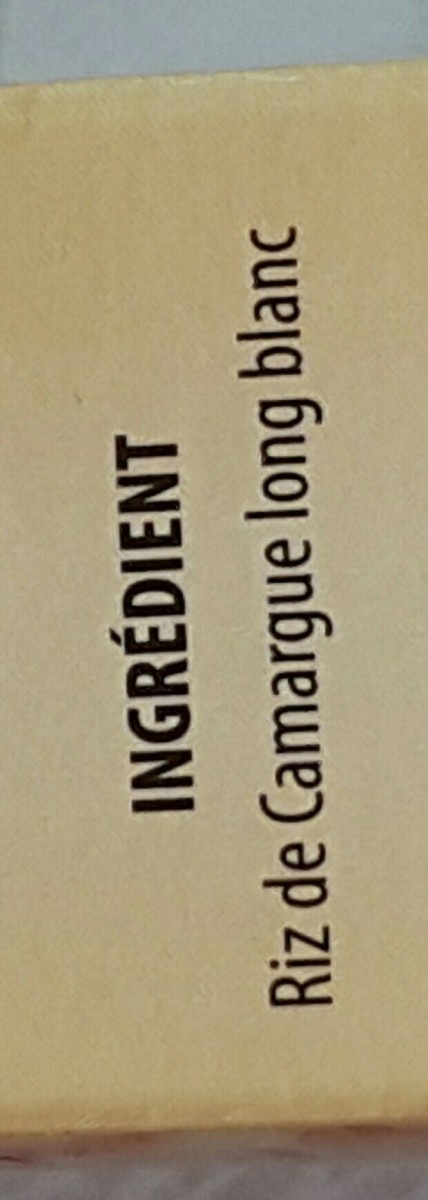ingredients: (102, 84, 354, 1098)
